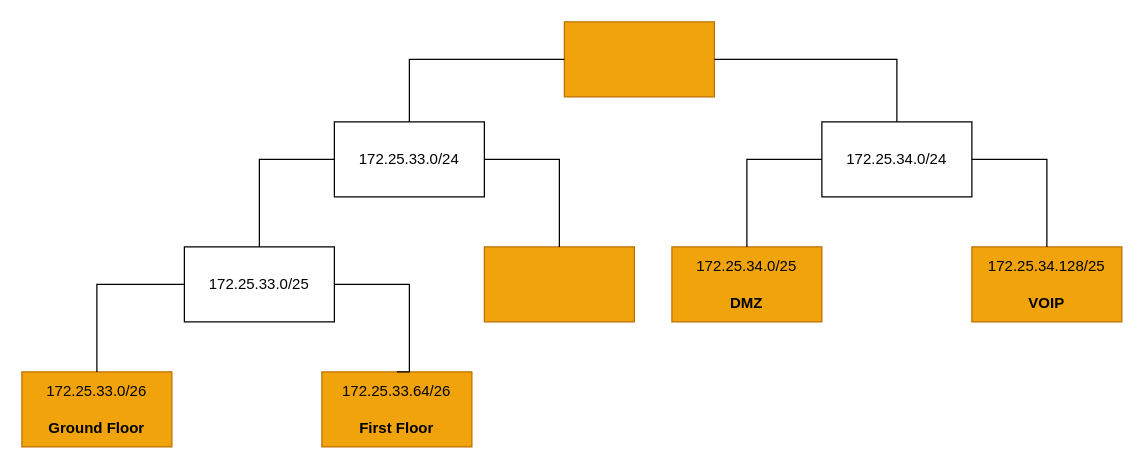
The diagram is 1144 pixels wide and 469 high, and some of its shapes have lost their labels. Each missing label, with the box of its shape:
172.25.32.0/22 Building 1: (563, 21, 714, 97)
172.25.33.128/25 Wi-Fi Network: (483, 246, 634, 322)
